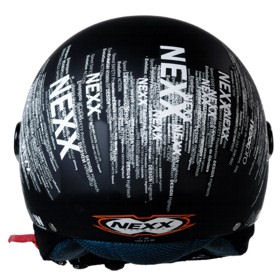helmet: (9, 30, 273, 254)
